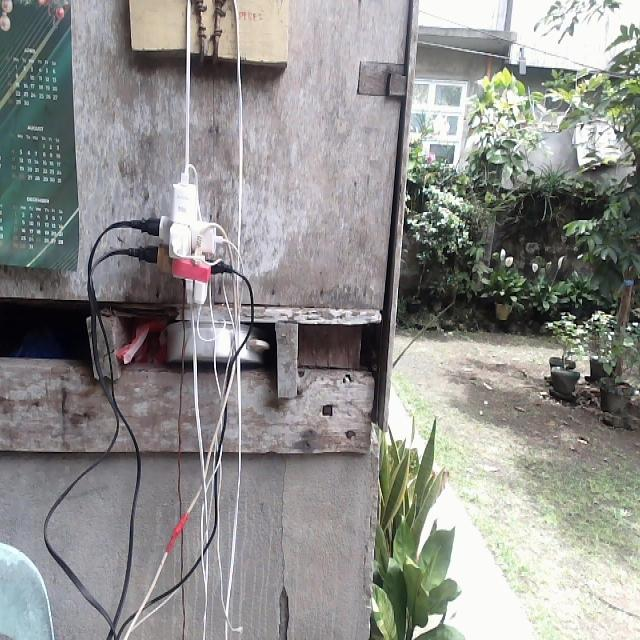-: (121, 165, 236, 314)
